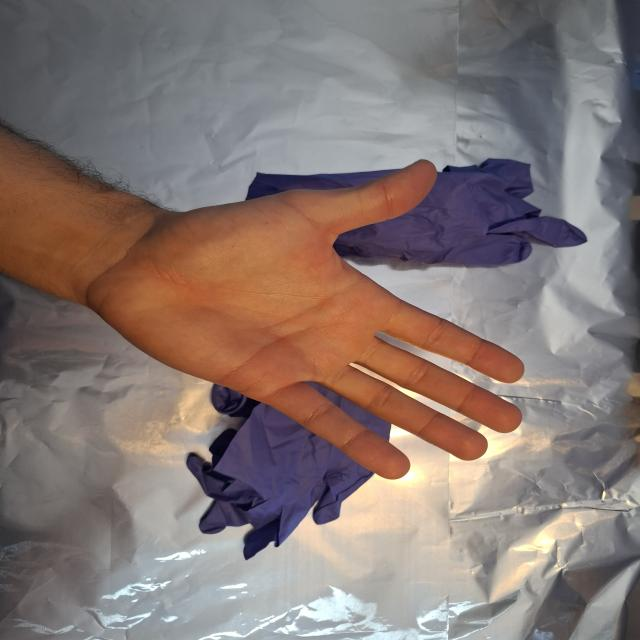glove_off: (84, 157, 528, 480)
